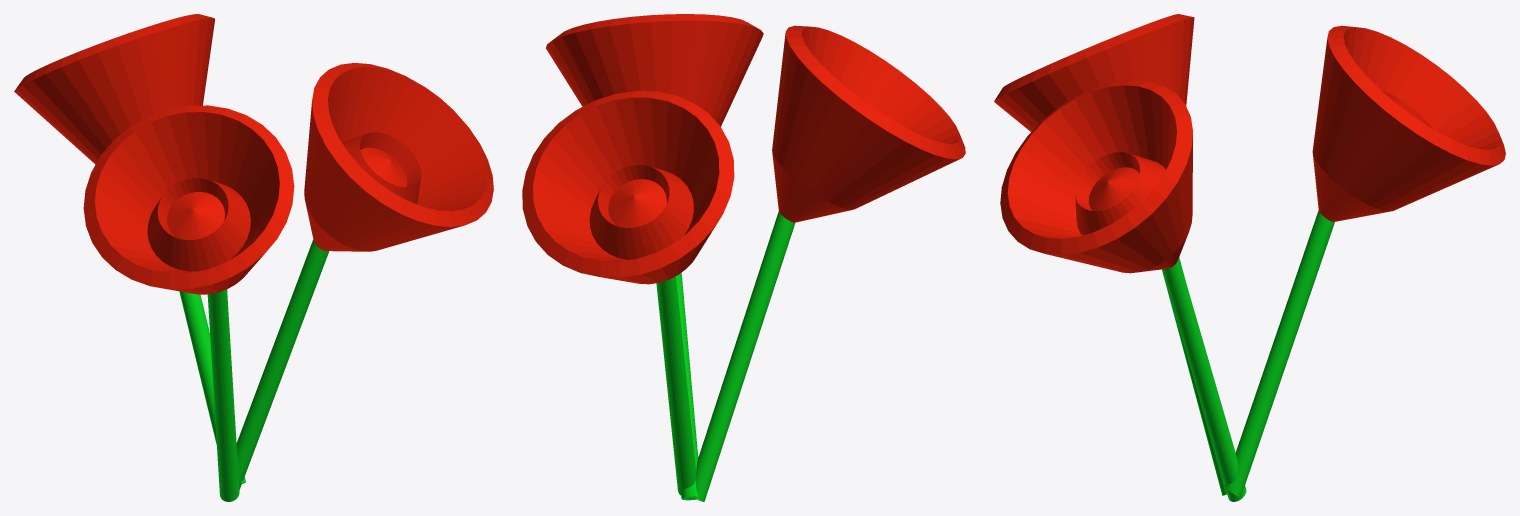
The model's file is FlowerOne.fbx.
3 renders of one model, left to right at view 1: azimuth 30°, elevation 25°; view 2: azimuth 150°, elevation 25°; view 3: azimuth 270°, elevation 25°, orthographic. The views are drawn at different scales.
Parts seen in each view (by area): view 1: Cylinder; view 2: Cylinder; view 3: Cylinder.
Boxes of the visible parts, x1,y1,x2,y2 form: Cylinder: (14,14,493,501); Cylinder: (522,14,965,501); Cylinder: (994,14,1505,501).
Size of the model in its own units: 188 by 204 by 212.
